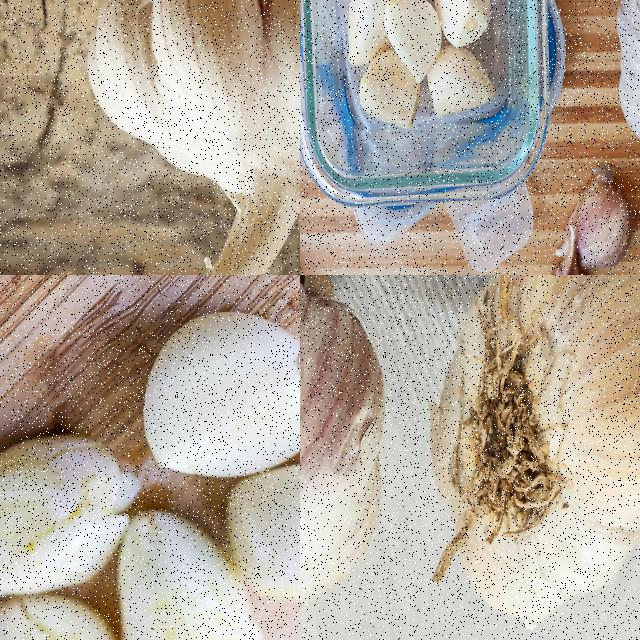garlic: (426, 275, 639, 635), (85, 0, 299, 274), (300, 275, 391, 639), (137, 306, 299, 482), (0, 430, 125, 602), (342, 0, 497, 128), (118, 507, 258, 639), (221, 446, 299, 605), (532, 170, 634, 274), (0, 584, 123, 639)
